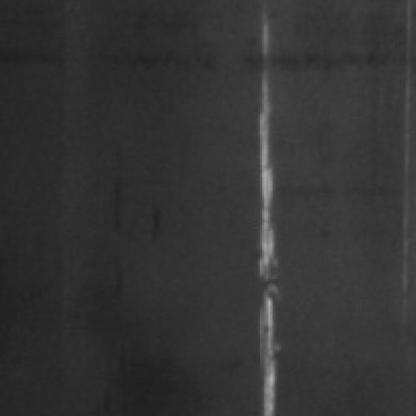scratches: (245, 10, 283, 414)
